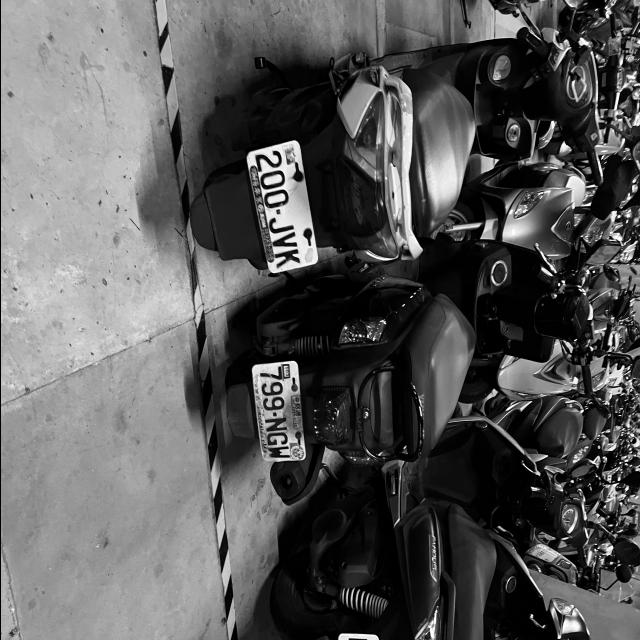-: (274, 208, 281, 218), (272, 412, 278, 416)
0: (258, 168, 287, 193), (262, 187, 290, 211)
2: (252, 148, 283, 174)
7: (260, 366, 282, 380)
9: (260, 381, 282, 396), (262, 396, 284, 411)
G: (266, 432, 288, 447)
J: (267, 215, 295, 237)
K: (273, 248, 301, 270)
N: (264, 418, 286, 432)
V: (270, 231, 298, 251)
W: (268, 448, 289, 460)
plate: (248, 142, 316, 272), (255, 364, 297, 464)
